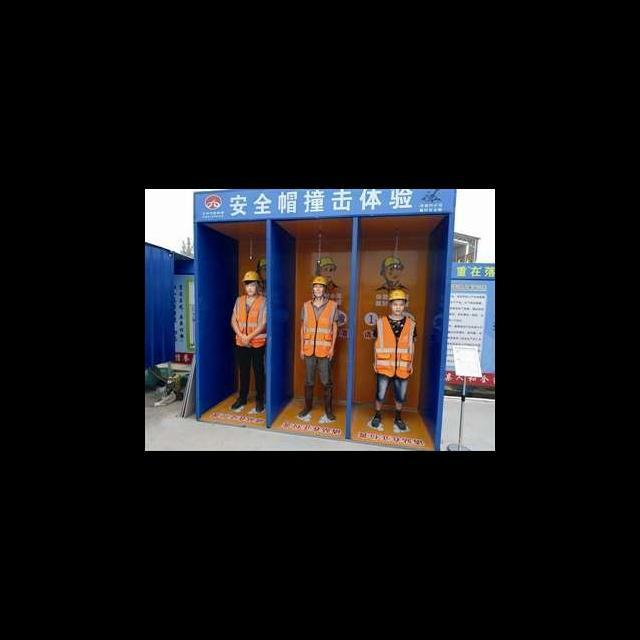helmet: (388, 286, 410, 304), (238, 264, 259, 282), (314, 272, 330, 294)
safety_vest: (373, 309, 421, 385), (302, 296, 341, 364), (232, 290, 264, 350)
